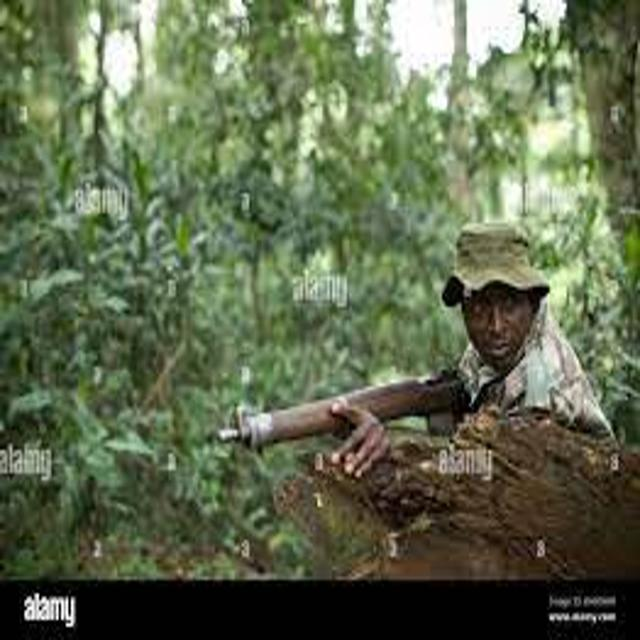gun: (192, 344, 517, 496)
poacher: (271, 189, 640, 503)
